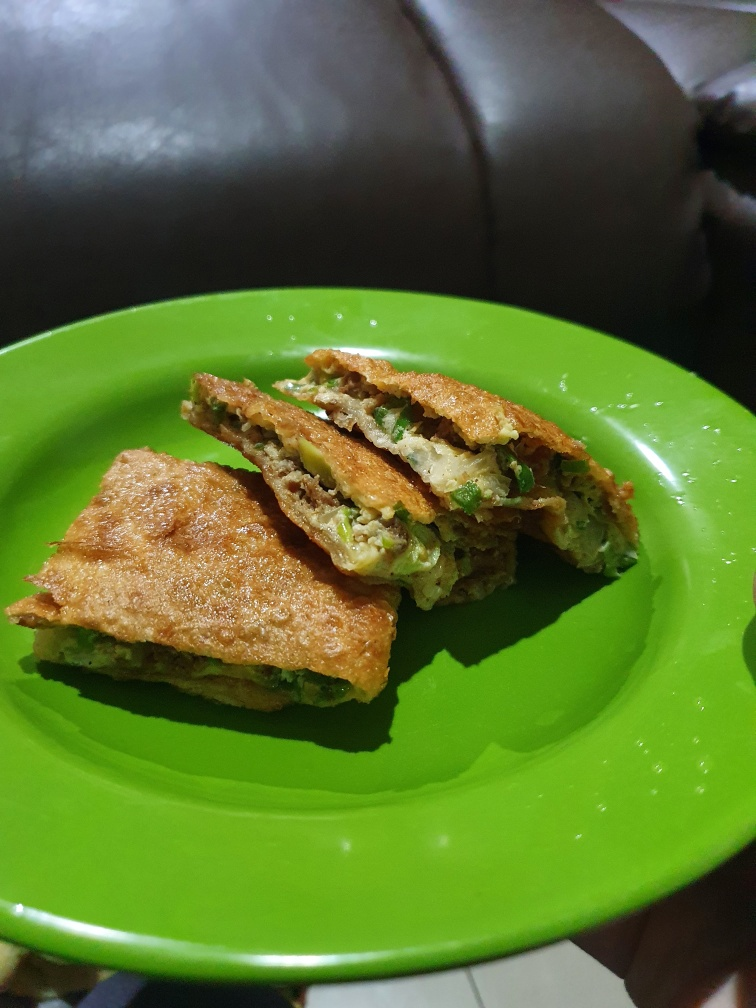martabak telor: (24, 441, 429, 724), (275, 306, 671, 590), (174, 333, 528, 621)
